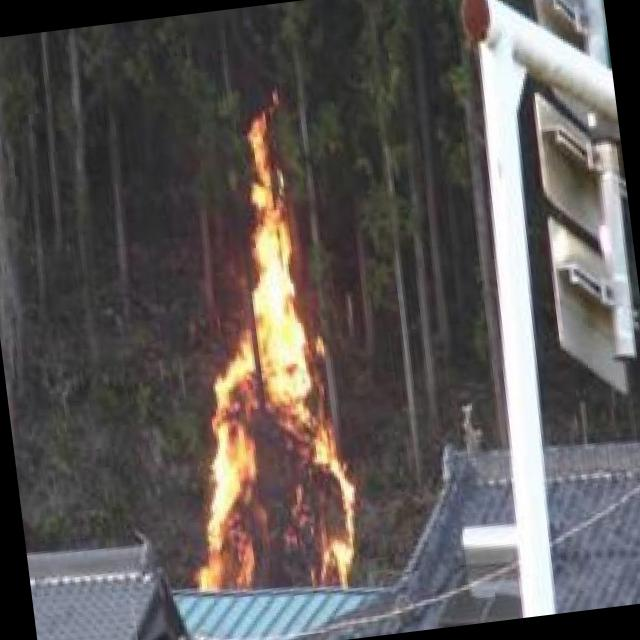Fire: (153, 121, 369, 606)
